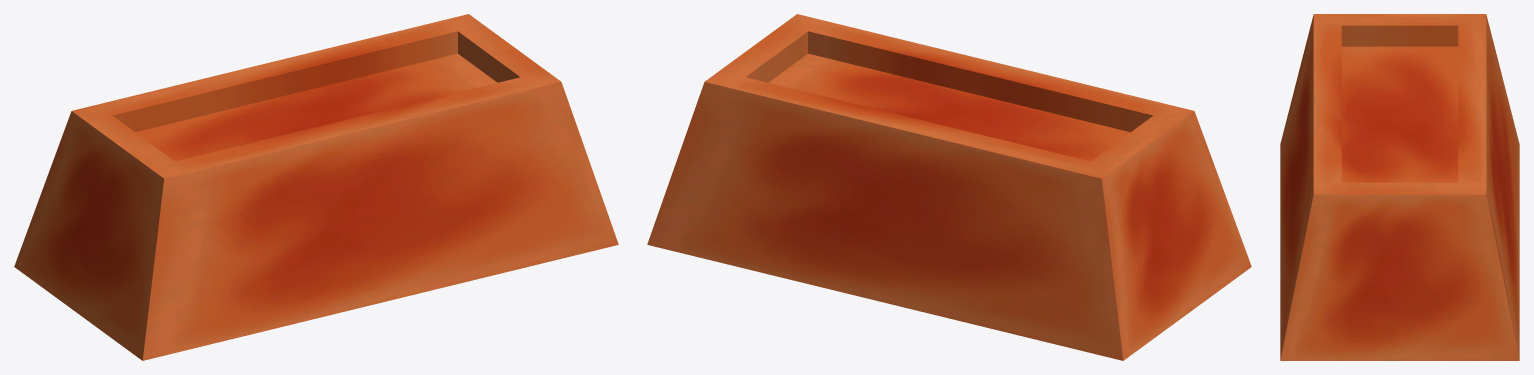
The model's file is CopperBar.fbx.
3 views of the same model, side by side, from view 1: azimuth 30°, elevation 25°; view 2: azimuth 150°, elevation 25°; view 3: azimuth 270°, elevation 25° (orthographic). The views are drawn at different scales.
Visible parts, largest first — view 1: Bar; view 2: Bar; view 3: Bar.
Part boxes in pixels (box(x1,y1,x2,y2)): Bar: box(14, 14, 618, 360); Bar: box(647, 14, 1251, 360); Bar: box(1280, 14, 1519, 360).
Bounding box in the file's own units: 1.17 × 0.3753 × 0.5482.
1 material, 1 textured.
